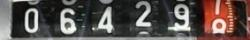digits: (168, 0, 192, 32), (210, 0, 229, 38), (59, 7, 77, 34), (134, 1, 152, 28), (97, 5, 114, 32), (24, 7, 39, 32)
